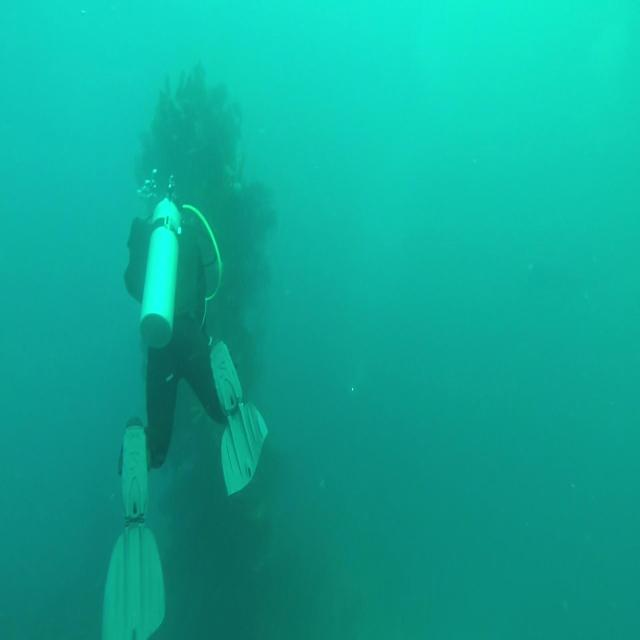human: (121, 186, 268, 498)
